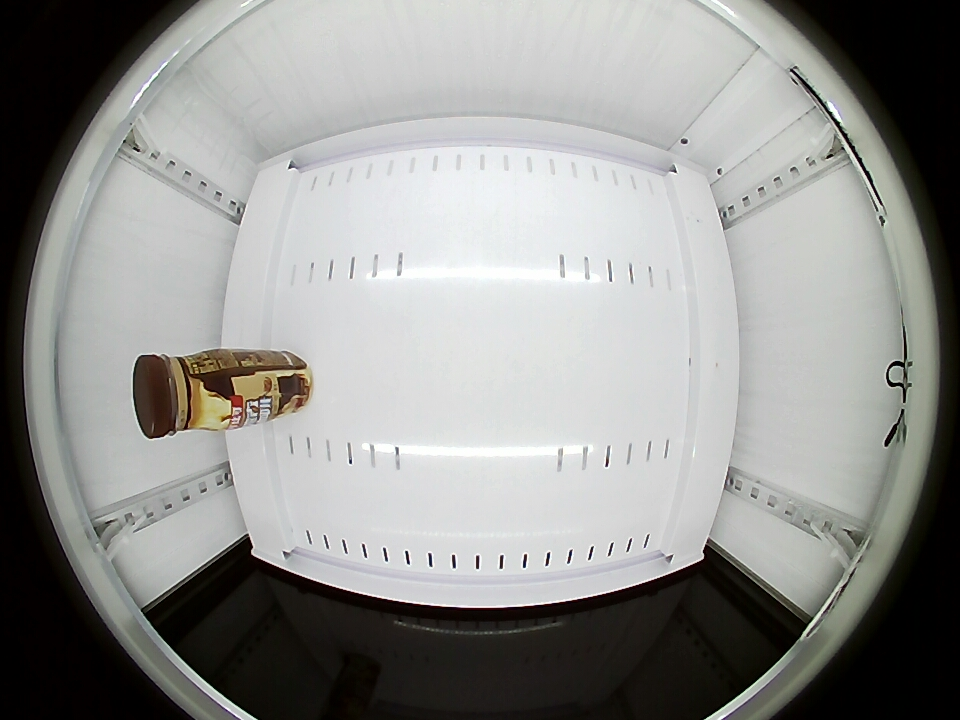lujikafei: (132, 350, 239, 438)
